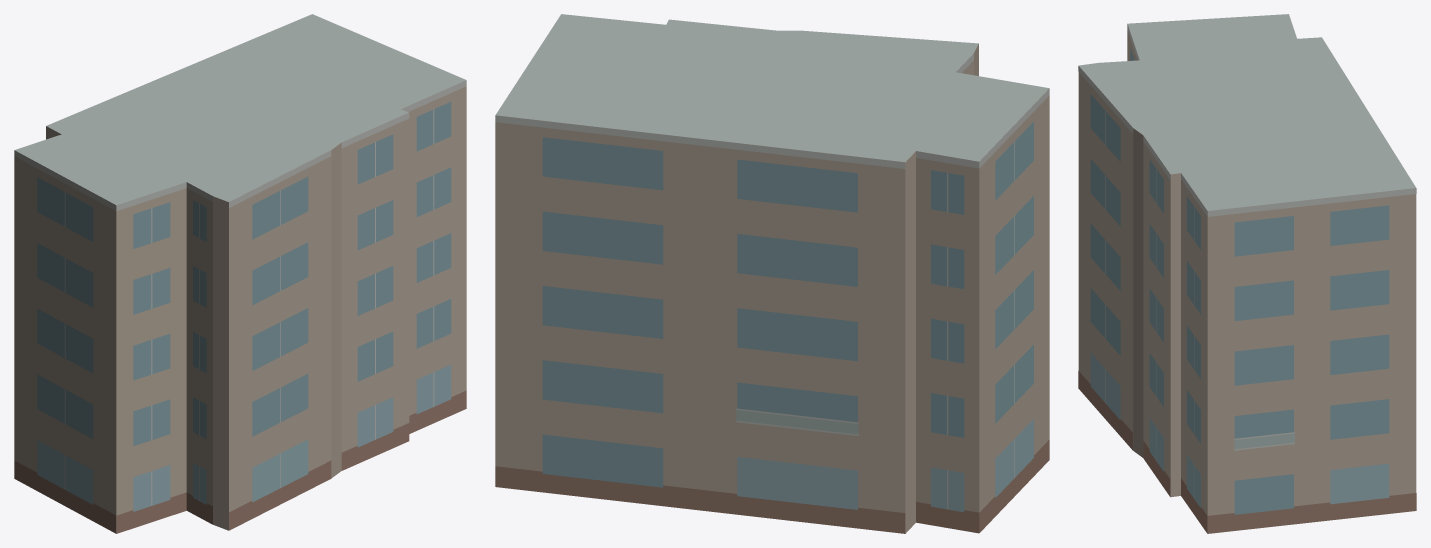
Rendered from survey-upis-32562483.glb.
3 renders of one model, left to right at view 1: azimuth 30°, elevation 25°; view 2: azimuth 150°, elevation 25°; view 3: azimuth 270°, elevation 25°, orthographic. The views are drawn at different scales.
Parts seen in each view (by area): view 1: survey-upis-32562483.tmp; view 2: survey-upis-32562483.tmp; view 3: survey-upis-32562483.tmp.
Boxes of the visible parts, x1,y1,x2,y2 form: survey-upis-32562483.tmp: (14,14,466,533); survey-upis-32562483.tmp: (495,14,1049,533); survey-upis-32562483.tmp: (1078,14,1416,533).
Bounding box in the file's own units: 17.49 × 13.35 × 12.68.
